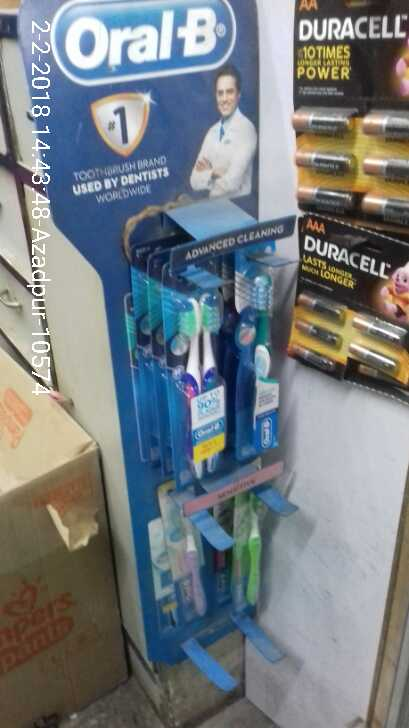oralb: (163, 277, 227, 477), (235, 274, 288, 451)
